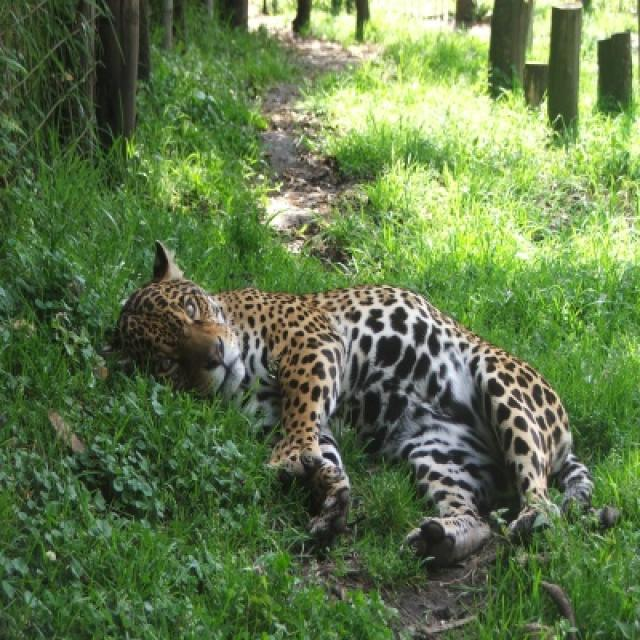Jaguar: (106, 246, 595, 576)
